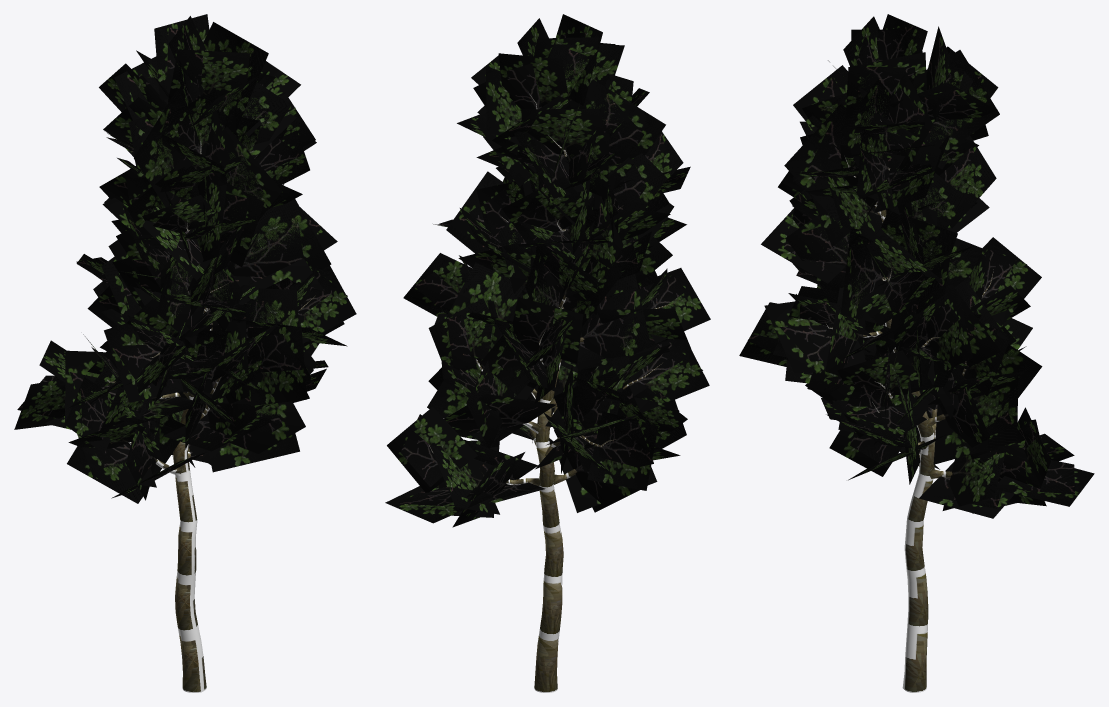
The model's file is Opt_TreeOak06.fbx.
3 views of the same model, side by side, from view 1: azimuth 30°, elevation 25°; view 2: azimuth 150°, elevation 25°; view 3: azimuth 270°, elevation 25° (orthographic). The views are drawn at different scales.
Parts seen in each view (by area): view 1: TreeOak06; view 2: TreeOak06; view 3: TreeOak06.
Part boxes in pixels (bbox=[...]): TreeOak06: bbox=[14, 14, 356, 692]; TreeOak06: bbox=[385, 14, 710, 692]; TreeOak06: bbox=[739, 14, 1094, 692].
Bounding box in the file's own units: 1276 × 2875 × 1409.
